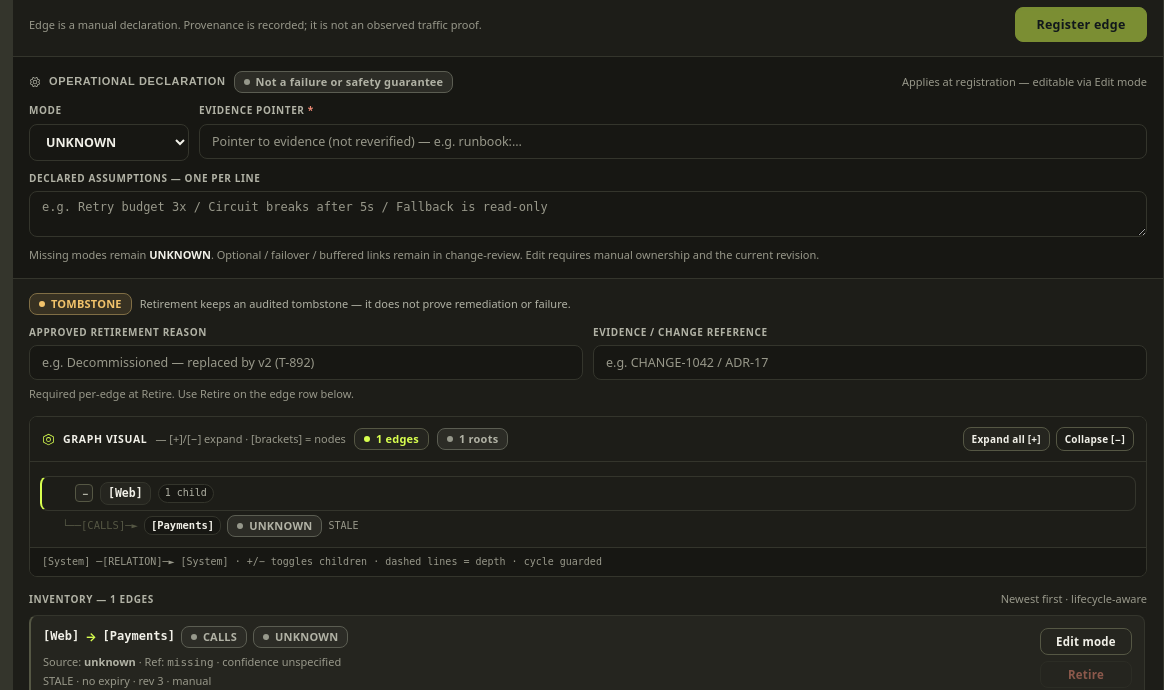
Test: saves a manually-owned operational annotation with revision and reason, without refreshing evidence
(page scrolled)
Click the button "Edit mode": coordinates (1086, 641) [1040,628,1132,655]
(page scrolled)
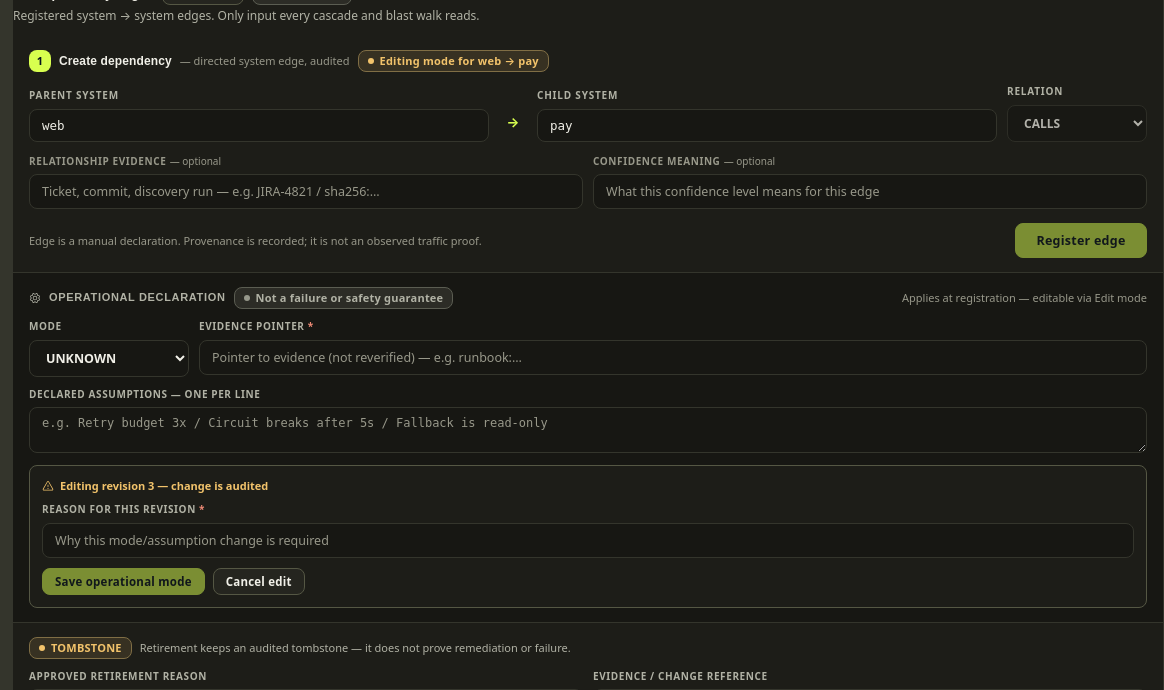
expect the button "Save operational mode" is disabled: met, box [42,568,205,595]
Select "FAILOVER" in the dropdown named "operational mode": coordinates (109, 358) [29,340,189,377]
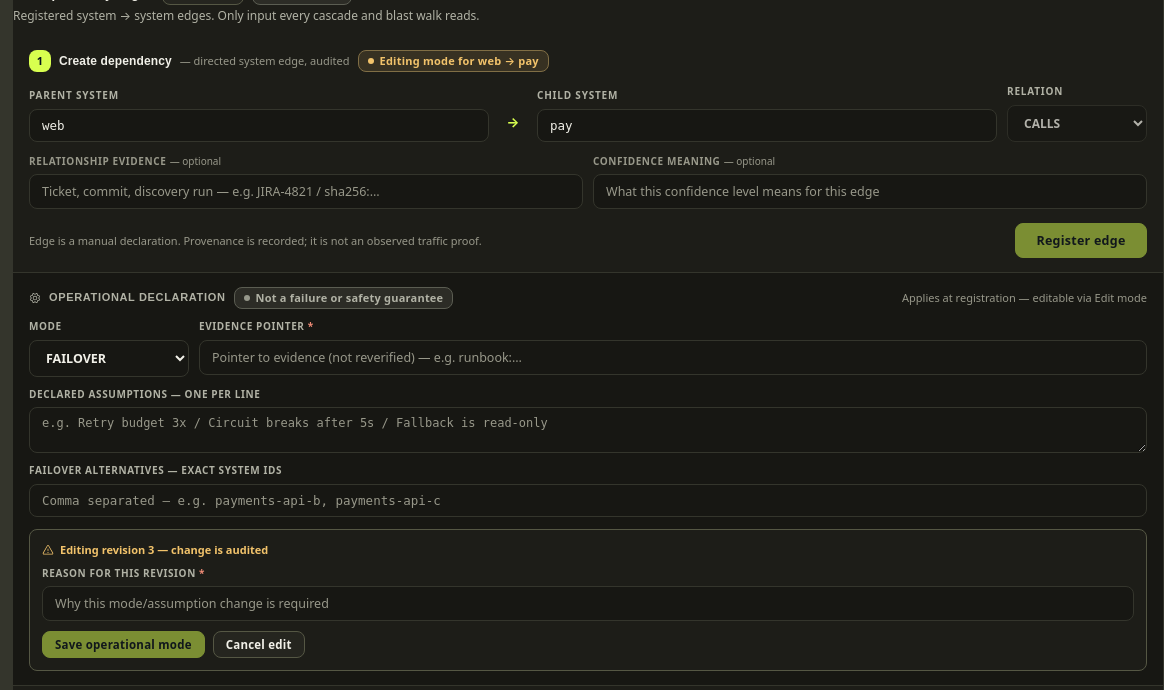
In the field named "failover alternative system IDs": coordinates (588, 500) [29,484,1147,517], type "backup"
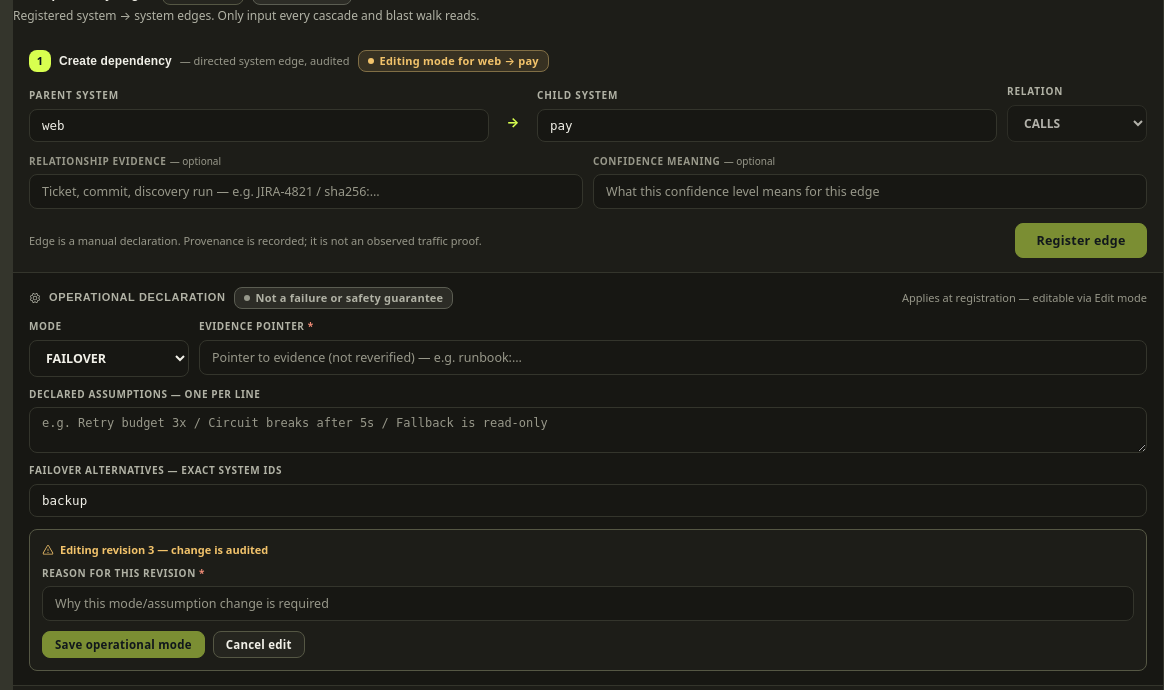
In the field named "operational evidence reference": coordinates (673, 357) [199,340,1147,375], type "test/8"
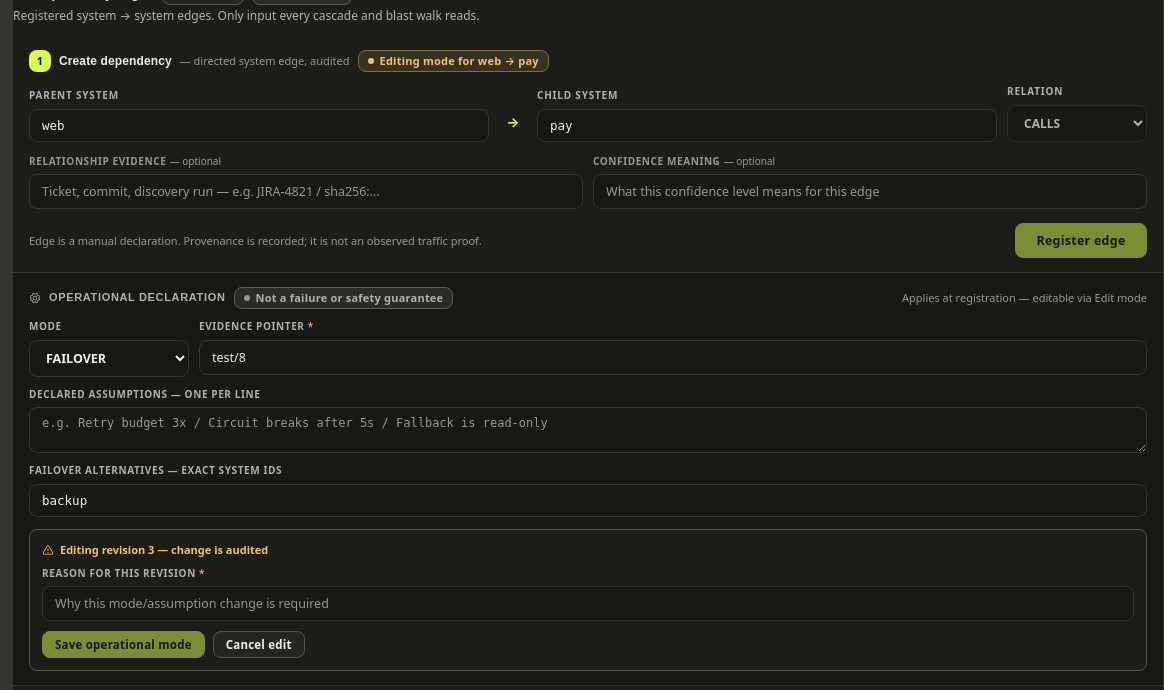
In the field named "operational change reason": coordinates (588, 604) [42,586,1134,621], type "Approved failover review"
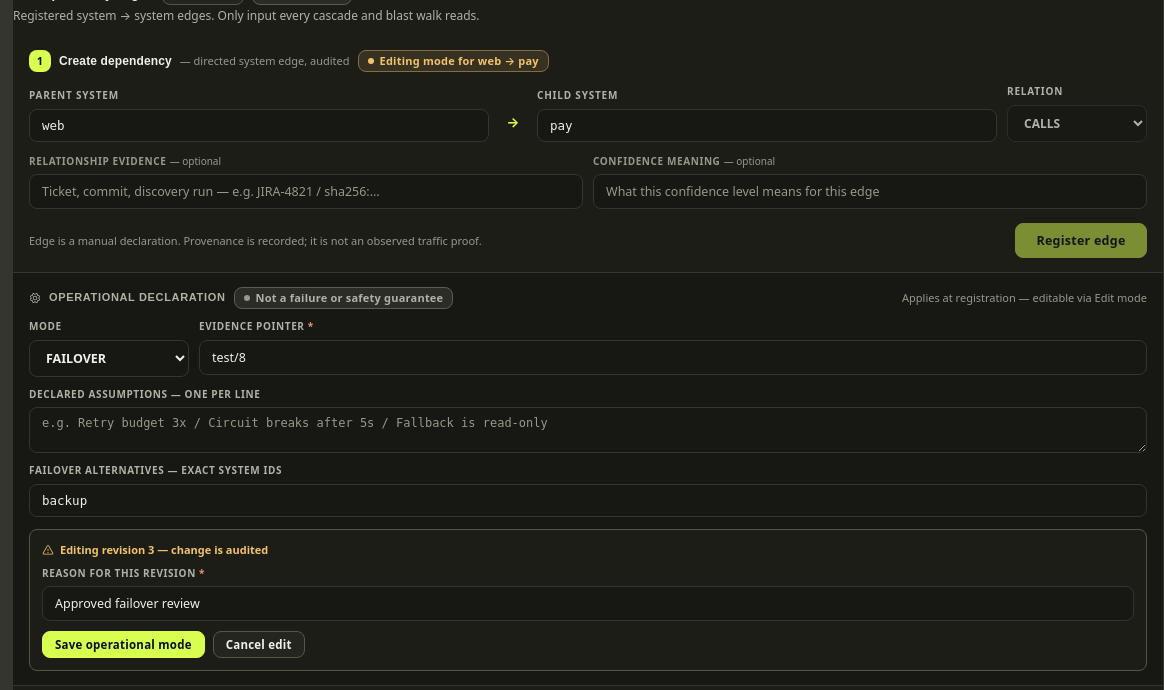
Click the button "Save operational mode": coordinates (123, 645) [42,631,205,658]
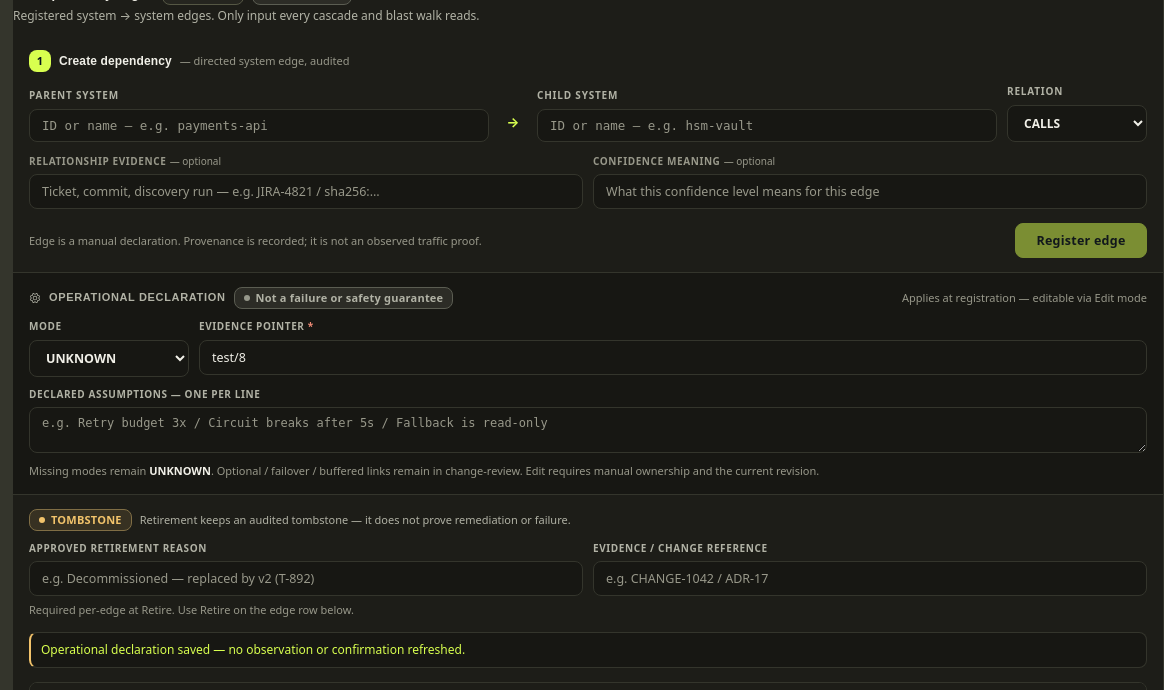
expect the text "no observation or confirmation refreshed" is shown: met, box [41,641,465,658]
